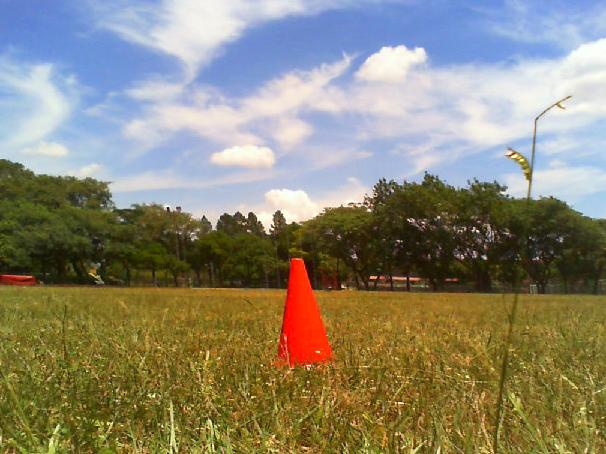0 cone: (277, 258, 332, 368)
